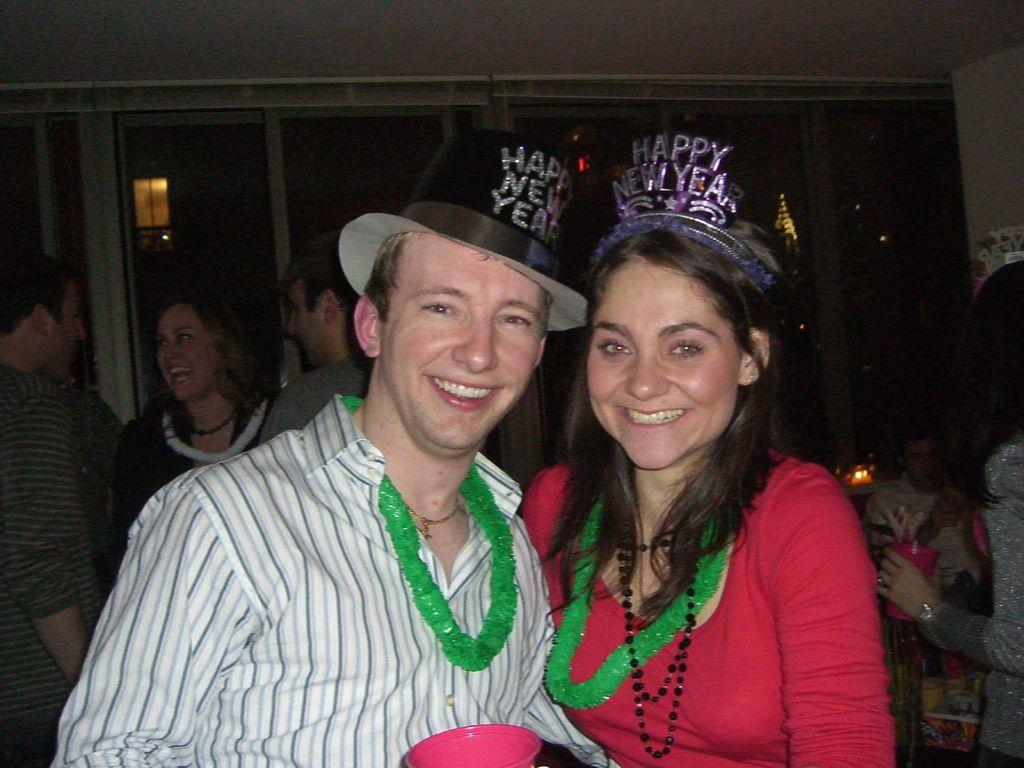Hat: (340, 126, 593, 333)
